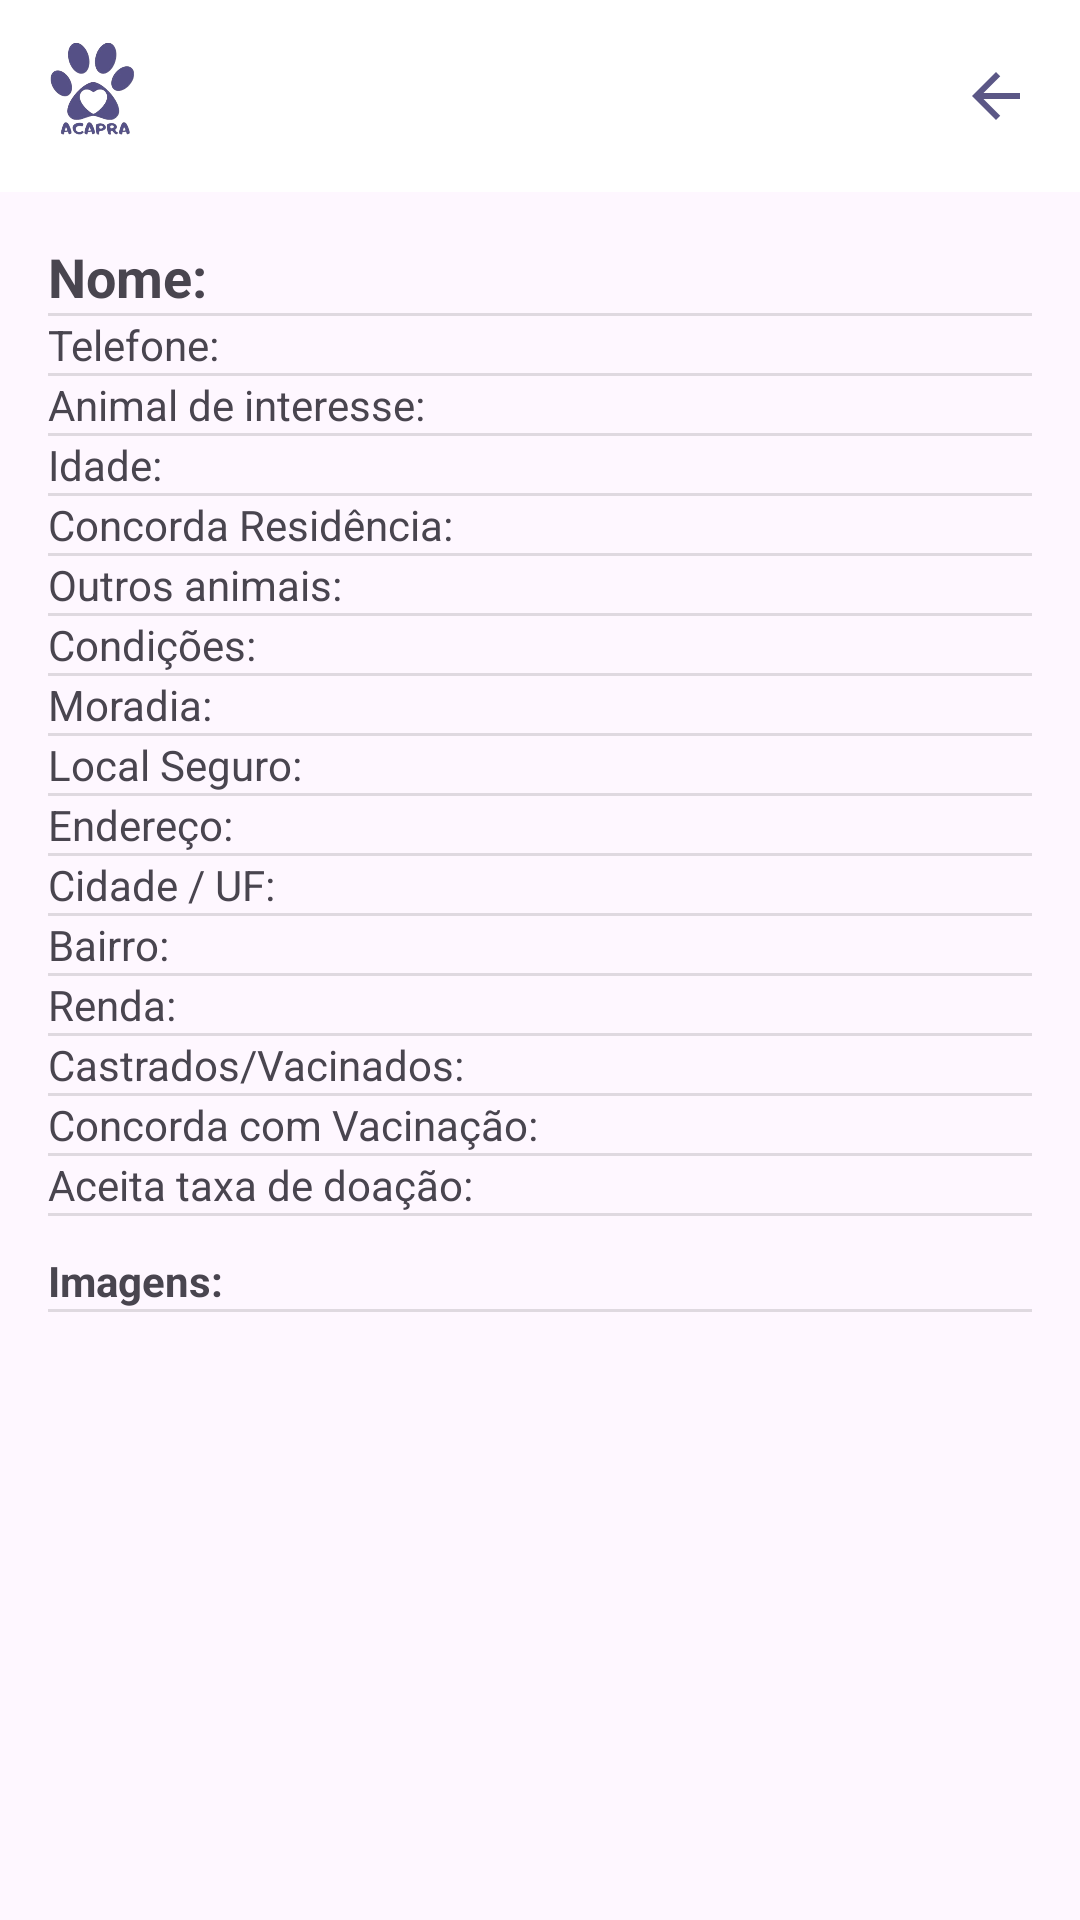

Named icons in this screenshot (1080×1920) and their centers, (x,y):
Voltar: (996,96)
